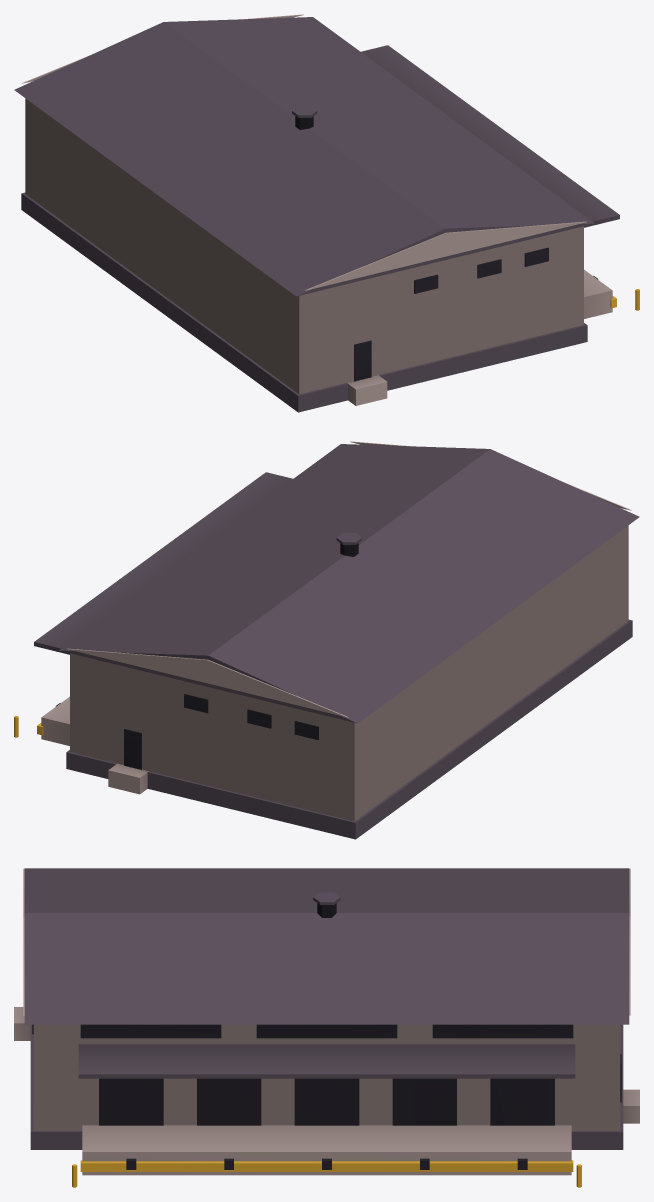
The picture shows the model from 3 angles, top to bottom: view 1: azimuth 30°, elevation 25°; view 2: azimuth 150°, elevation 25°; view 3: azimuth 270°, elevation 25°; orthographic projection. The views are drawn at different scales.
Parts seen in each view (by area): view 1: body_pal_asphalt, body_pal_sidewalk, body_pal_uiDark; view 2: body_pal_asphalt, body_pal_sidewalk, body_pal_uiDark; view 3: body_pal_asphalt, body_pal_sidewalk, body_pal_uiDark, body_pal_schoolBusYellow.
Part boxes in pixels (left/top/right/bottom): body_pal_asphalt: left=14, top=17, right=619, bottom=412; body_pal_sidewalk: left=22, top=14, right=612, bottom=405; body_pal_uiDark: left=295, top=116, right=598, bottom=381; body_pal_asphalt: left=34, top=444, right=639, bottom=839; body_pal_sidewalk: left=41, top=441, right=631, bottom=821; body_pal_uiDark: left=55, top=543, right=358, bottom=769; body_pal_asphalt: left=24, top=868, right=629, bottom=1149; body_pal_sidewalk: left=14, top=868, right=639, bottom=1175; body_pal_uiDark: left=32, top=903, right=621, bottom=1169; body_pal_schoolBusYellow: left=72, top=1160, right=581, bottom=1187.
Size of the model in its own units: 23.16 by 9.98 by 32.
